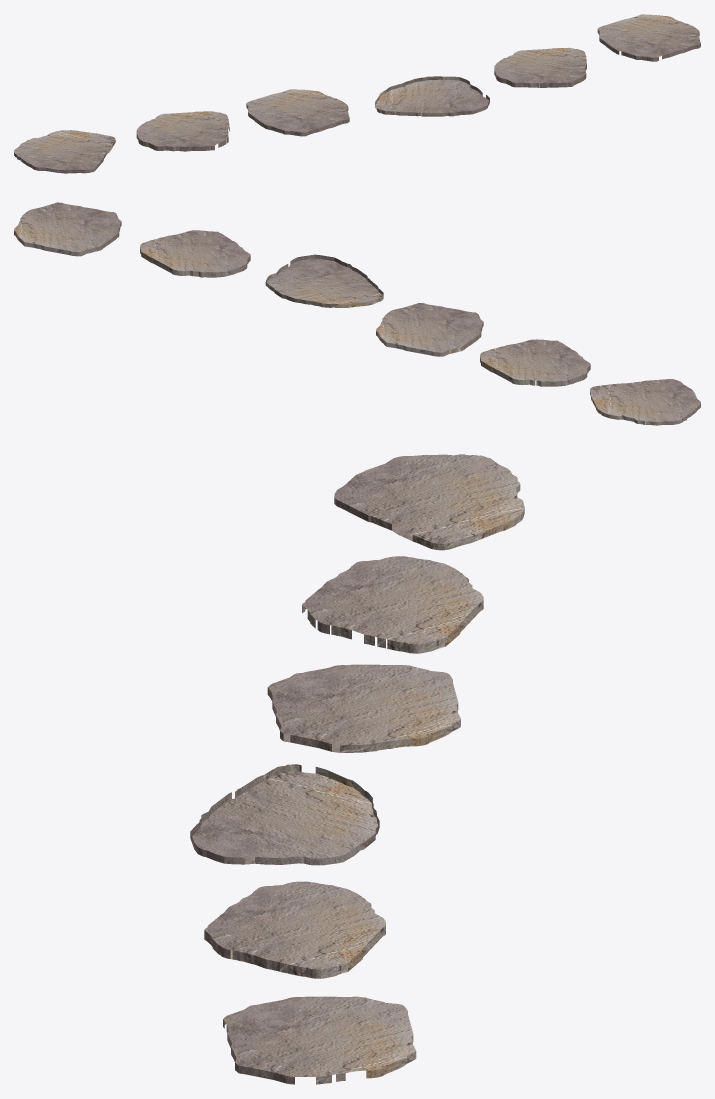
Rendered from stepping_stones.glb.
The picture shows the model from 3 angles, top to bottom: view 1: azimuth 30°, elevation 25°; view 2: azimuth 150°, elevation 25°; view 3: azimuth 270°, elevation 25°; orthographic projection. The views are drawn at different scales.
Visible parts, largest first — view 1: Silver Creek Stepping Stone ShapeB.005; view 2: Silver Creek Stepping Stone ShapeB.005; view 3: Silver Creek Stepping Stone ShapeB.005.
Part boxes in pixels (<box>): Silver Creek Stepping Stone ShapeB.005: <box>14,14,700,173</box>; Silver Creek Stepping Stone ShapeB.005: <box>14,202,700,425</box>; Silver Creek Stepping Stone ShapeB.005: <box>190,454,524,1084</box>.
Size of the model in its own units: 4.86 by 0.0335 by 1.1.
Materials: 1 (1 with a texture image).
